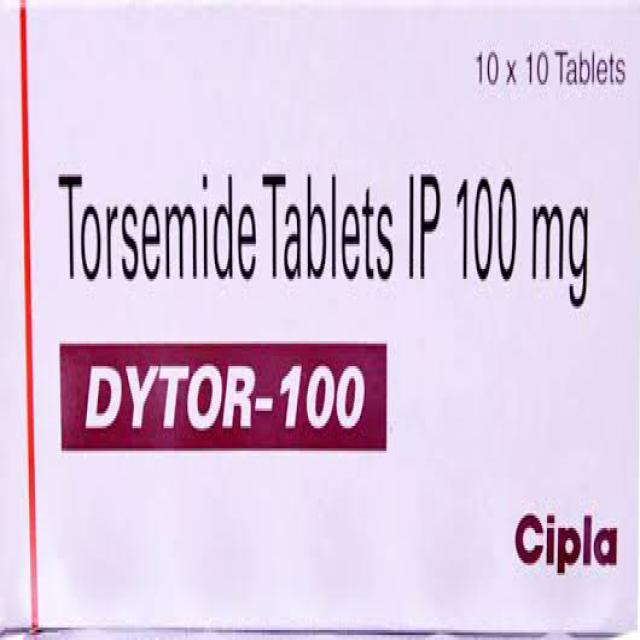drug-name: (82, 356, 378, 440)
